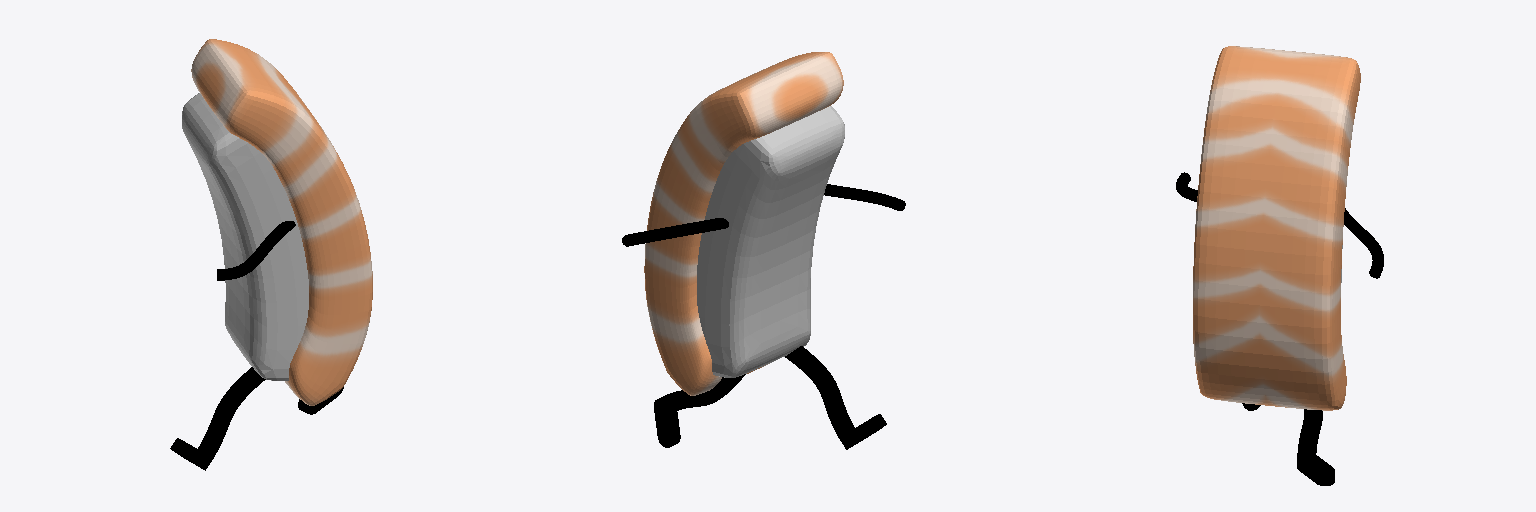
3 renders of one model, left to right at view 1: azimuth 30°, elevation 25°; view 2: azimuth 150°, elevation 25°; view 3: azimuth 270°, elevation 25°, orthographic.
Parts seen in each view (by area): view 1: Cube.001, Cube, BezierCurve.003, BezierCurve.001; view 2: Cube, Cube.001, BezierCurve.003, BezierCurve.001; view 3: Cube.001, BezierCurve.003, BezierCurve.001.
Part boxes in pixels (x1,y1,x2,y2): Cube.001: (191, 39, 372, 405); Cube: (182, 93, 308, 380); BezierCurve.003: (170, 367, 343, 470); BezierCurve.001: (217, 221, 295, 280); Cube: (697, 106, 844, 377); Cube.001: (644, 52, 843, 395); BezierCurve.003: (654, 346, 886, 449); BezierCurve.001: (622, 184, 905, 246); Cube.001: (1193, 46, 1360, 410); BezierCurve.003: (1242, 403, 1334, 485); BezierCurve.001: (1176, 172, 1383, 278).
Bounding box in the file's own units: 3.9 × 7.14 × 3.49.
Materials: 4 (1 with a texture image).